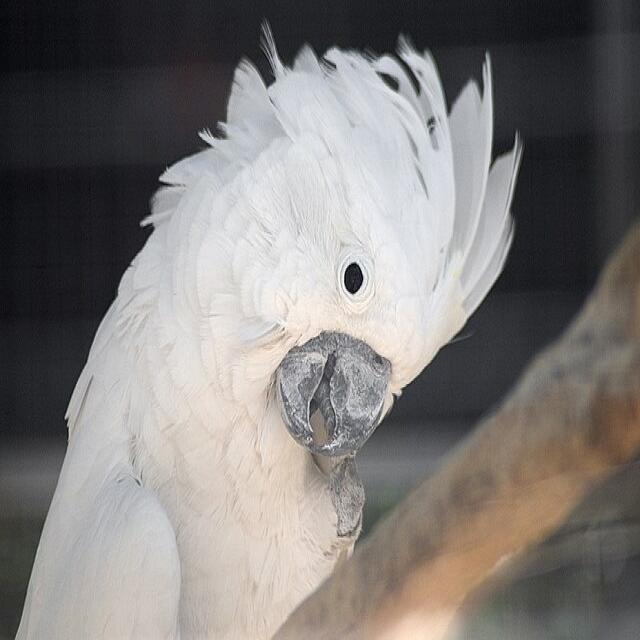Kakatua Putih: (6, 0, 544, 640)
